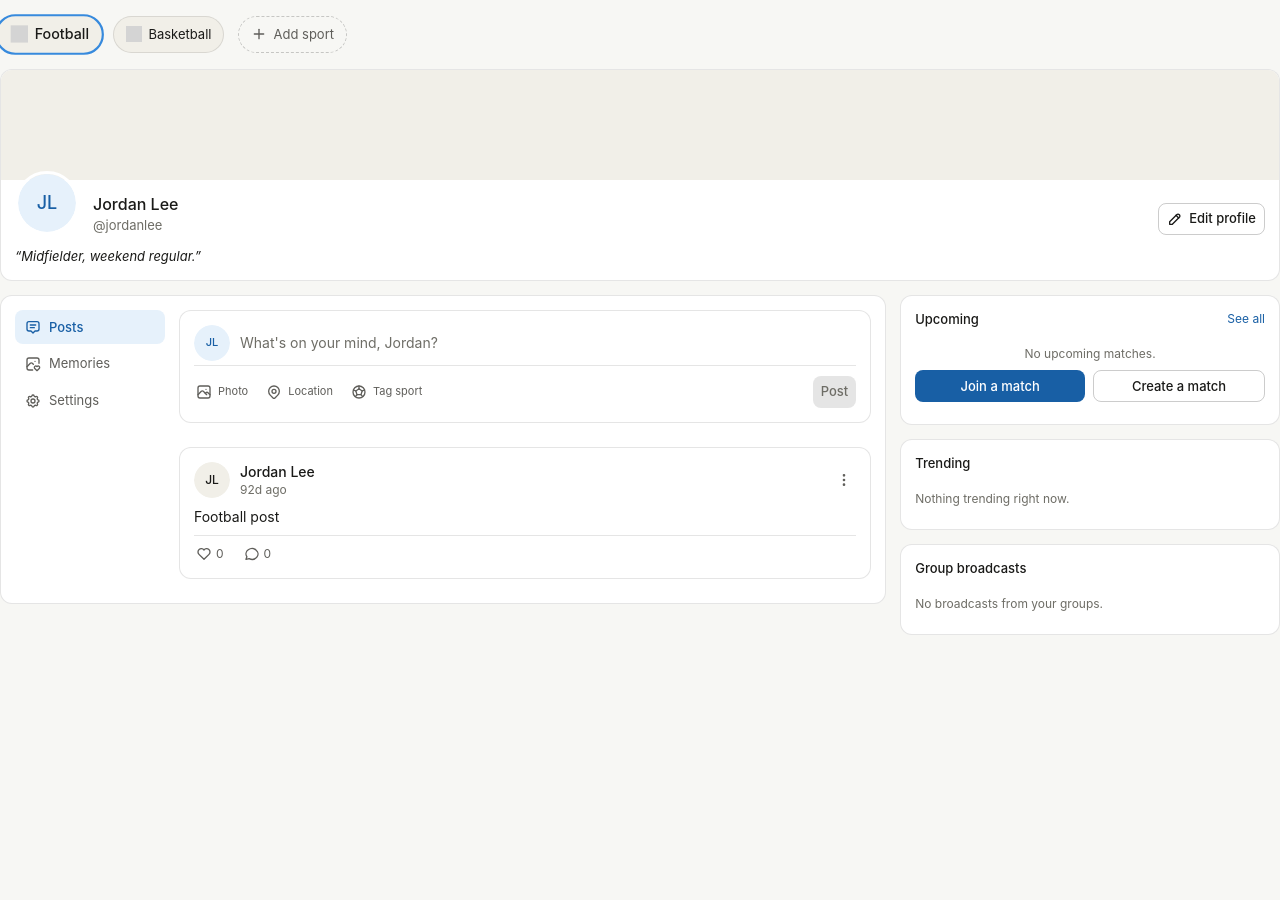
Test case: ProfilePage › Settings unsaved-changes guard (PROFILE-10) › cancelling the dialog leaves the draft intact and stays on Settings
The width and height of the screenshot is (1280, 900).
Check: the text "Football post" is shown, box top-left (194, 508), bottom-right (279, 524)
Click the tab "Settings".
click(90, 401)  # box top-left (15, 383), bottom-right (165, 418)
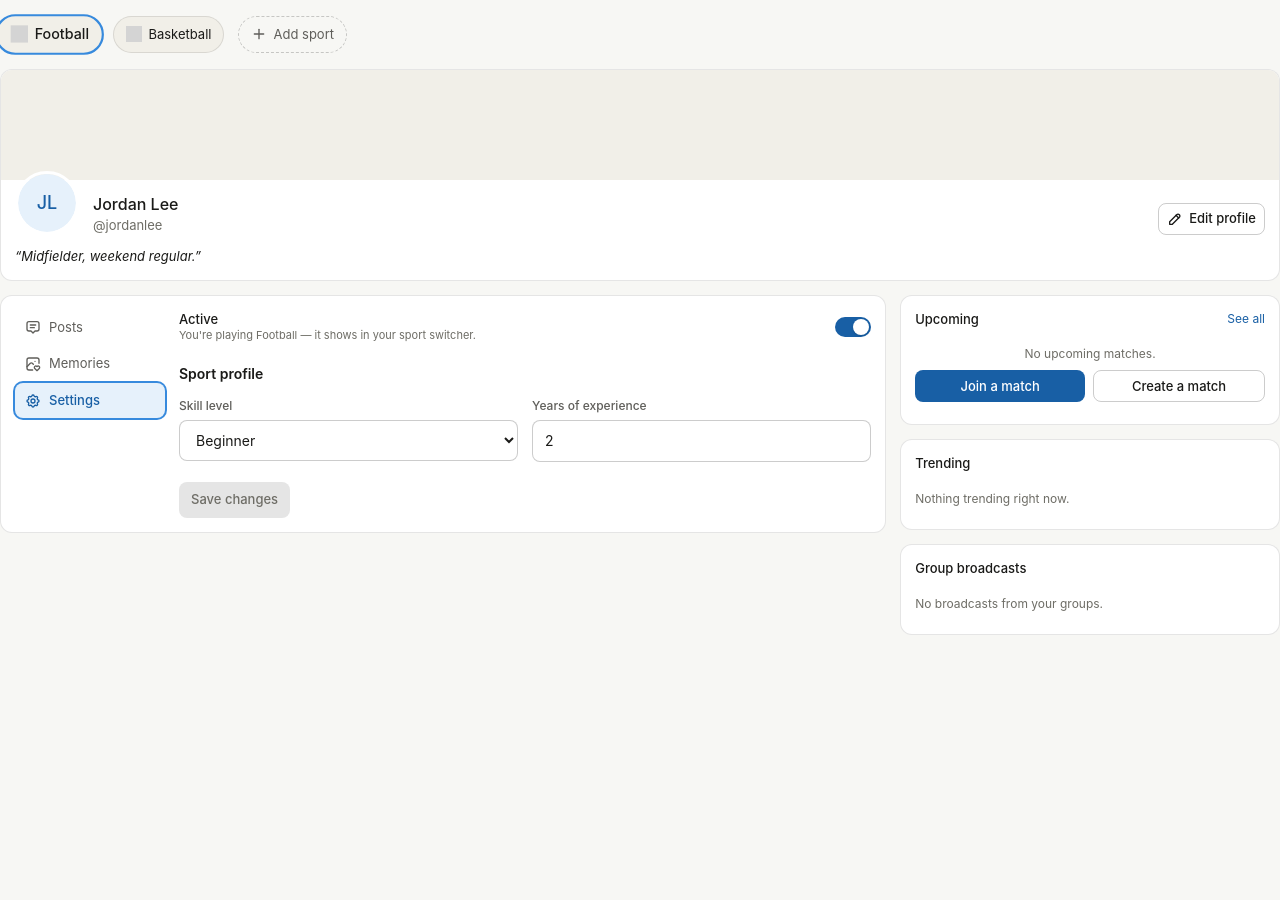
Check: the dropdown labelled "Skill level" shows "Beginner", box top-left (179, 420), bottom-right (518, 461)
Type "5" into the number field labelled "Years of experience".
click(702, 441); type("5")  # box top-left (532, 420), bottom-right (871, 462)
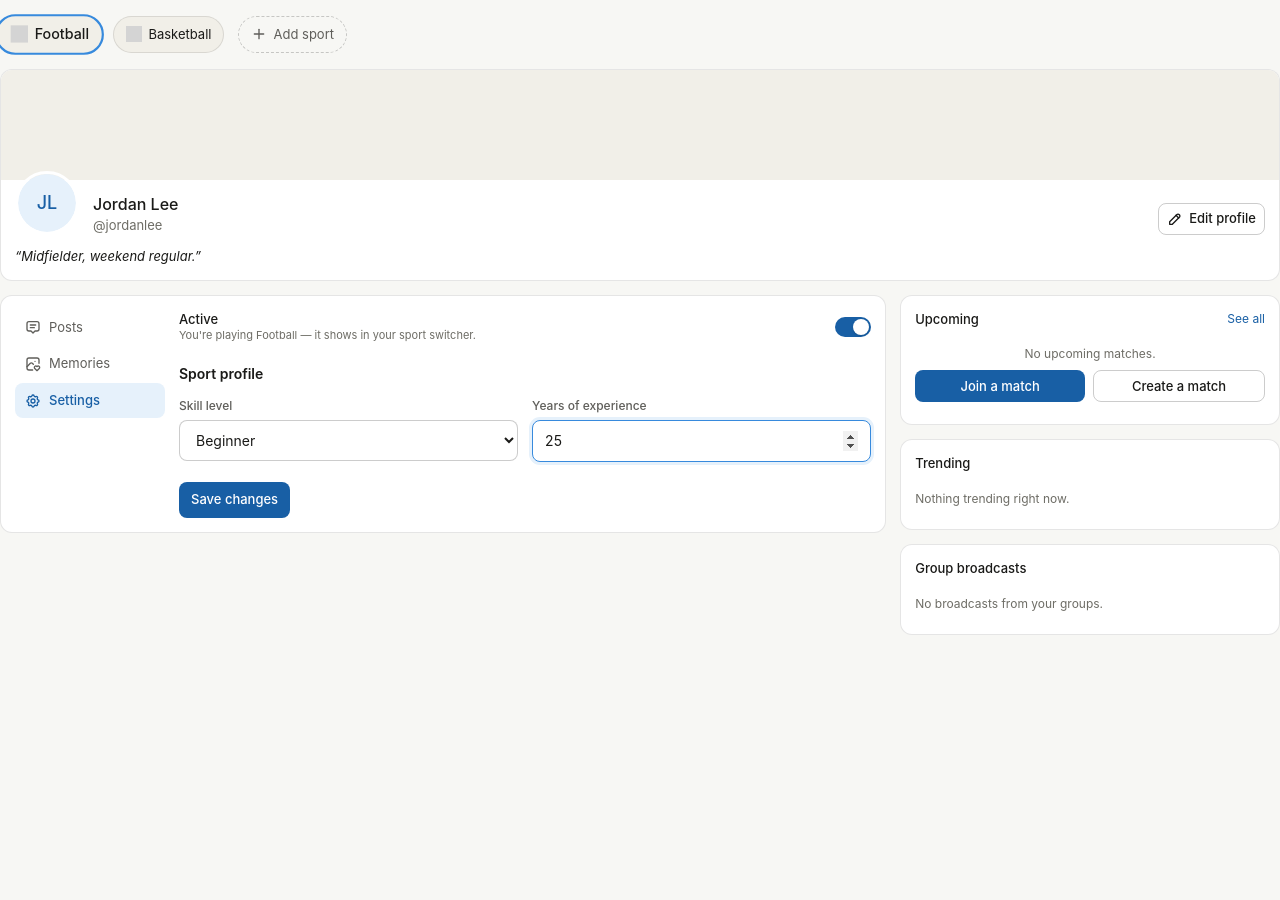
Click the tab "Posts".
click(90, 327)  # box top-left (15, 310), bottom-right (165, 344)
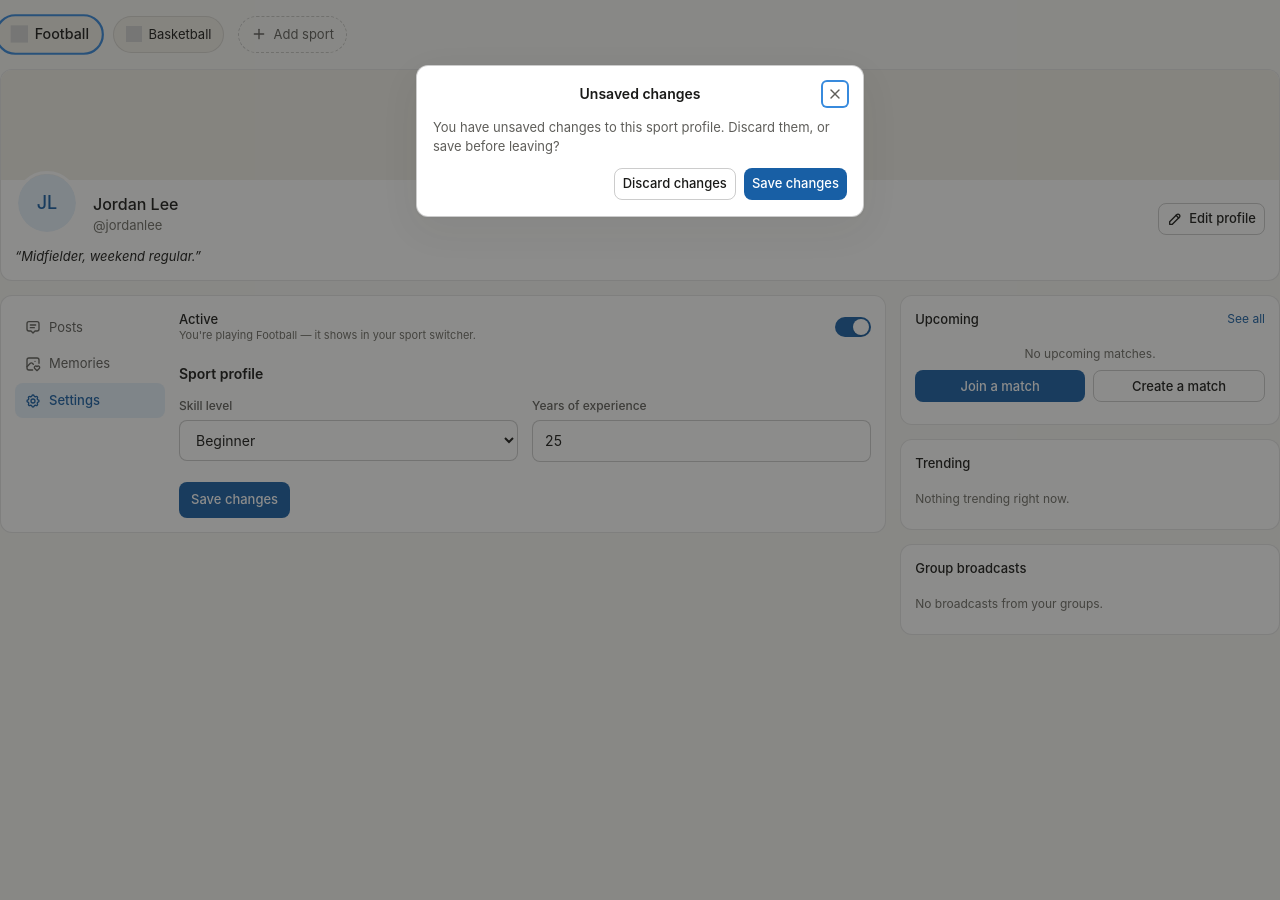
Click the button named "Close".
click(835, 94)  # box top-left (823, 82), bottom-right (847, 106)
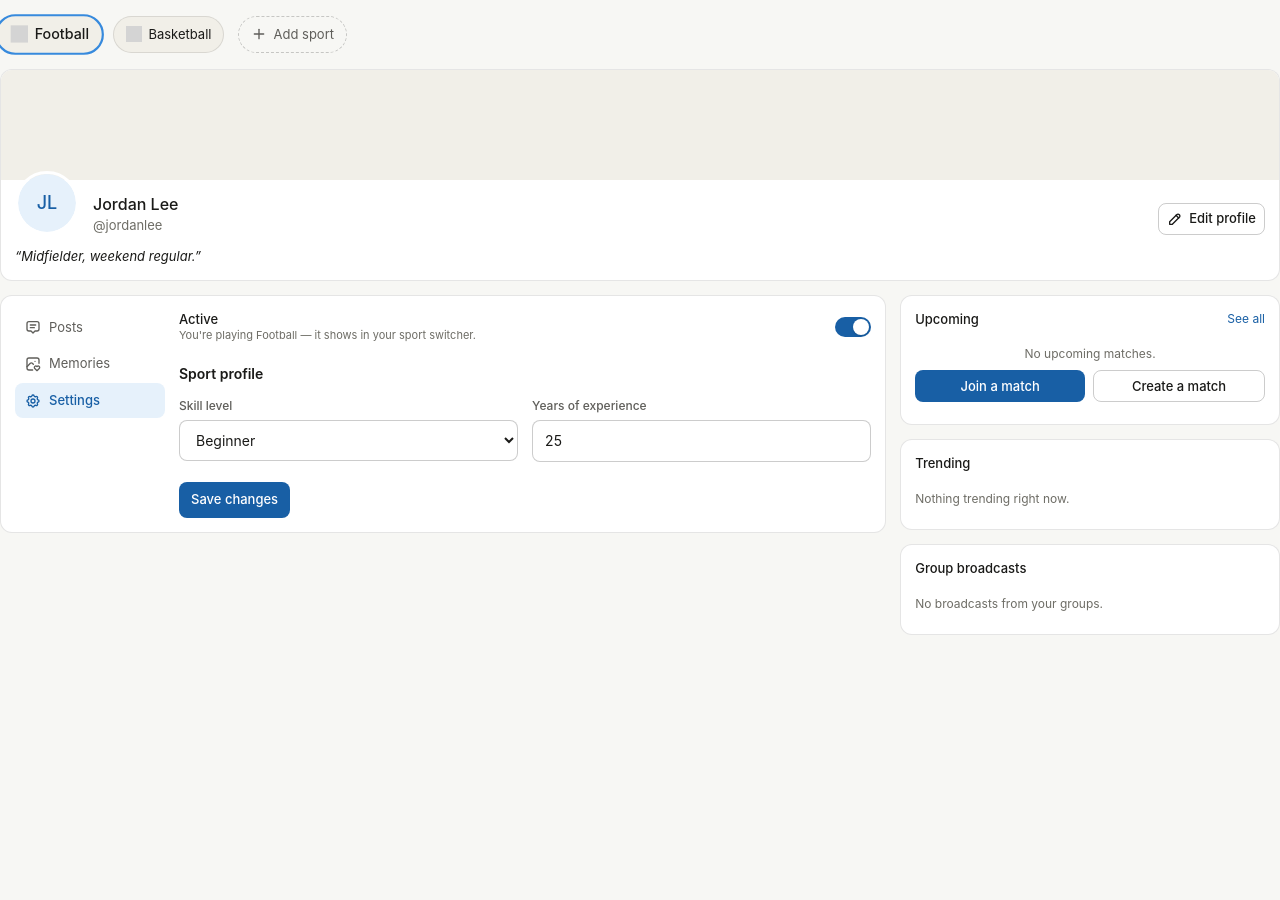
Check: the number field labelled "Years of experience" holds "25", box top-left (532, 420), bottom-right (871, 462)
Check: the heading "Unsaved changes" is gone
